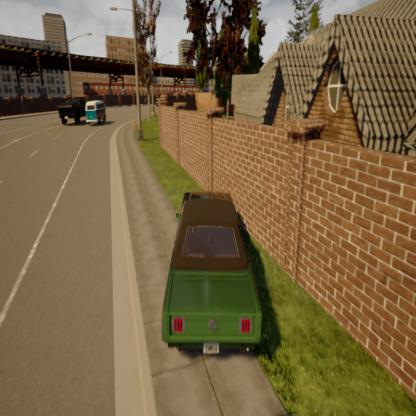Cars: (152, 178, 273, 366), (55, 92, 90, 128), (82, 95, 108, 130)
